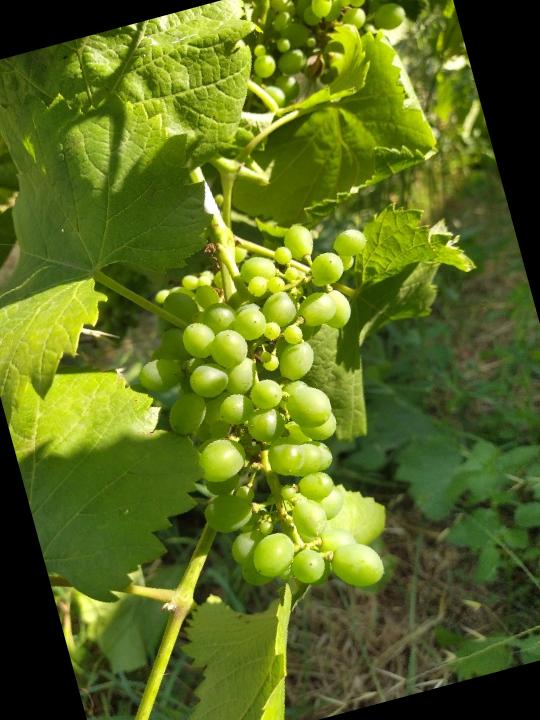grape: (102, 202, 457, 634)
